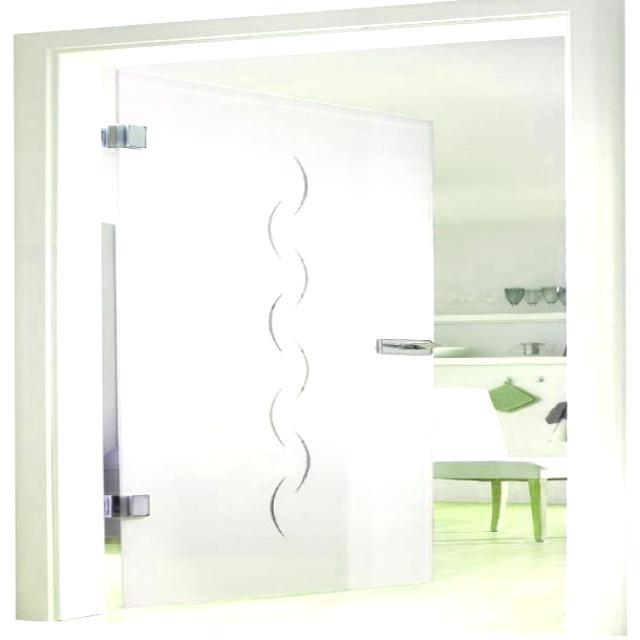Door: (108, 68, 435, 607)
